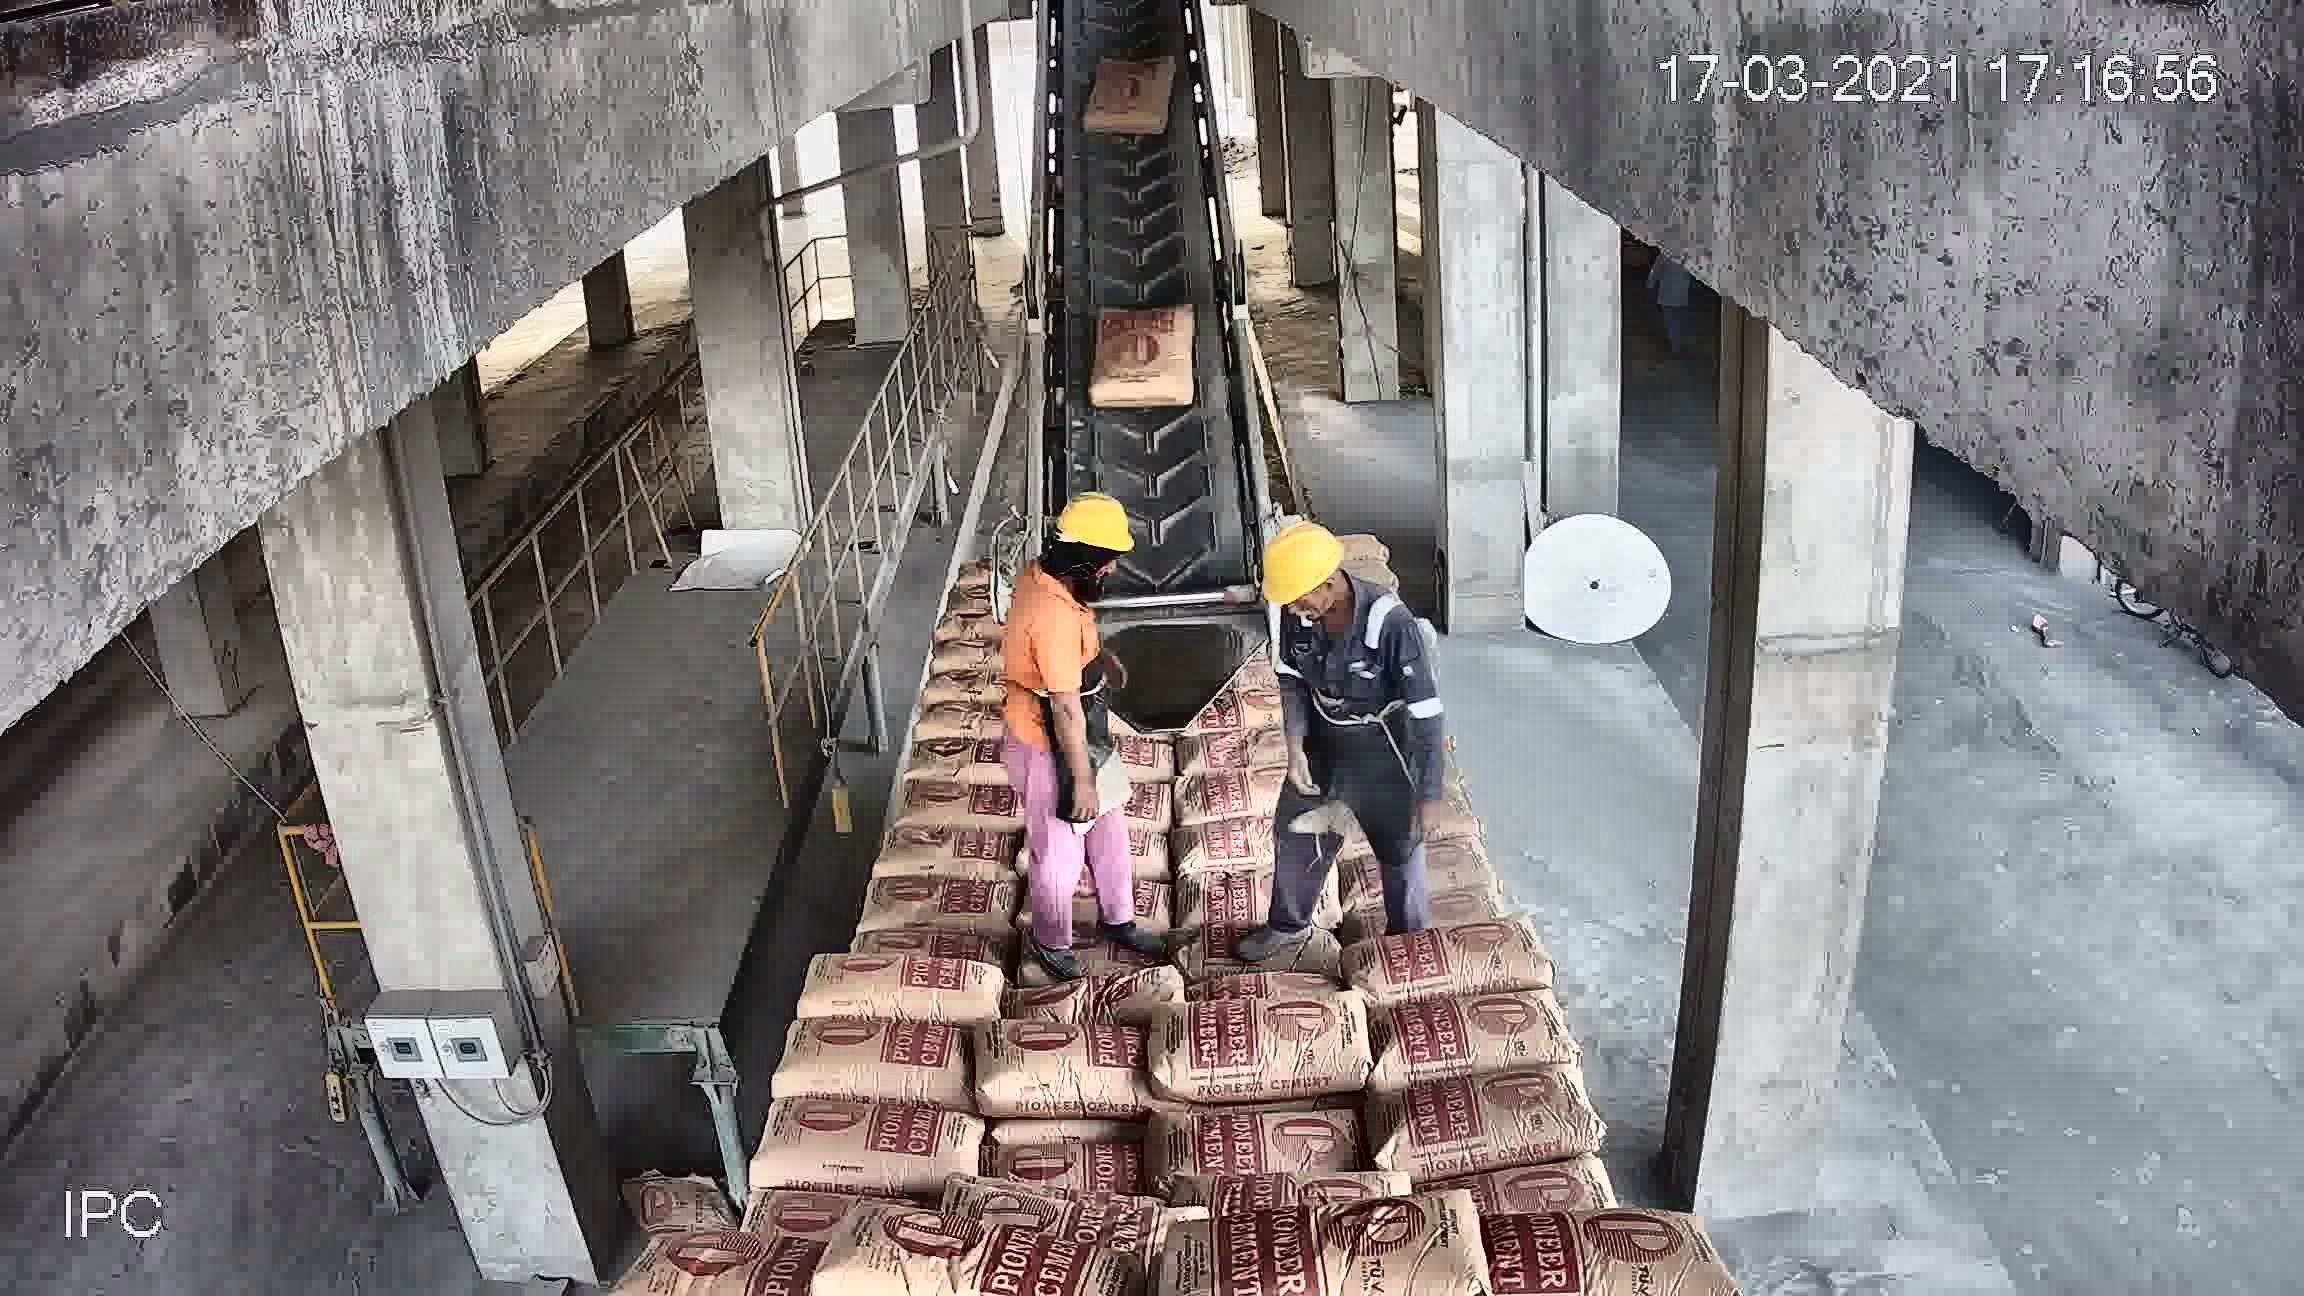bag: (1097, 297, 1203, 408), (1086, 52, 1184, 139)
bag_h: (1193, 1195, 1487, 1296), (1154, 984, 1389, 1105), (810, 1212, 1128, 1296), (1378, 1079, 1590, 1193), (1449, 1207, 1703, 1296), (753, 1105, 987, 1196), (976, 1011, 1152, 1127), (1375, 984, 1582, 1071), (1160, 1109, 1366, 1196), (767, 1022, 975, 1106), (1343, 916, 1551, 999), (1332, 831, 1487, 915), (639, 1231, 839, 1294), (802, 954, 987, 1022), (1016, 961, 1198, 1029), (851, 870, 1029, 935), (991, 1144, 1157, 1201), (839, 915, 1024, 965), (1169, 815, 1285, 881), (880, 818, 1010, 877), (1176, 714, 1282, 783), (900, 775, 1014, 834), (915, 726, 1010, 786), (1180, 766, 1290, 818), (913, 684, 1000, 731)
belt: (1016, 41, 1280, 676)
